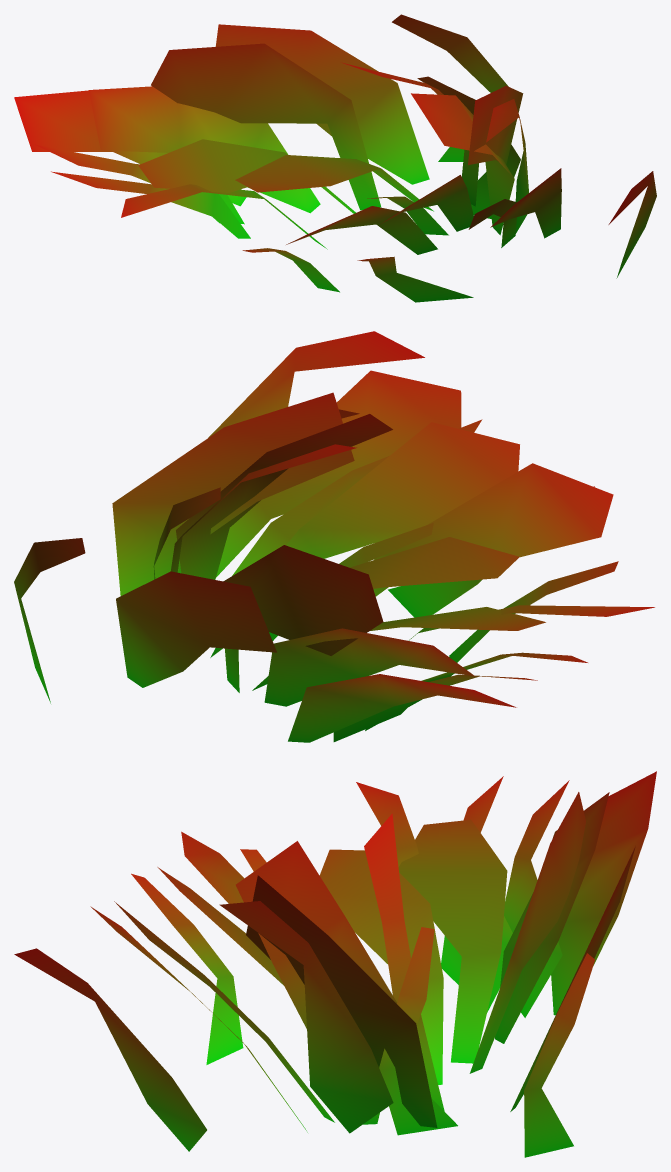
Rendered from S_Wild_Grass_vczndjqja_Var6_lod1.FBX.
3 views of the same model, one above another, from view 1: azimuth 30°, elevation 25°; view 2: azimuth 150°, elevation 25°; view 3: azimuth 270°, elevation 25° (orthographic). The views are drawn at different scales.
Visible parts, largest first — view 1: S_Wild_Grass_vczndjqja_Var6_lod1_LOD0; view 2: S_Wild_Grass_vczndjqja_Var6_lod1_LOD0; view 3: S_Wild_Grass_vczndjqja_Var6_lod1_LOD0.
Boxes of the visible parts, x1,y1,x2,y2 form: S_Wild_Grass_vczndjqja_Var6_lod1_LOD0: (14,14,656,302); S_Wild_Grass_vczndjqja_Var6_lod1_LOD0: (14,331,654,742); S_Wild_Grass_vczndjqja_Var6_lod1_LOD0: (14,771,656,1157).
Bounding box in the file's own units: 23.55 × 23.97 × 9.68.
